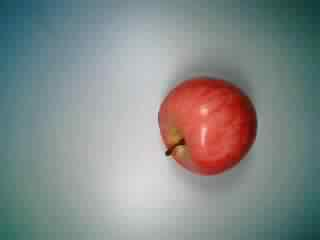apple: (155, 76, 259, 177)
